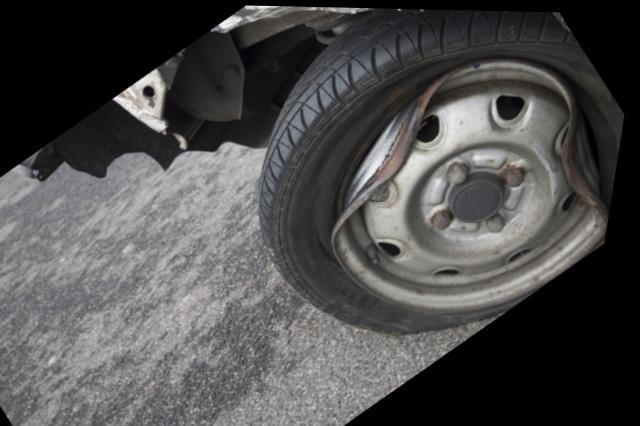tire flat: (259, 7, 628, 331)
